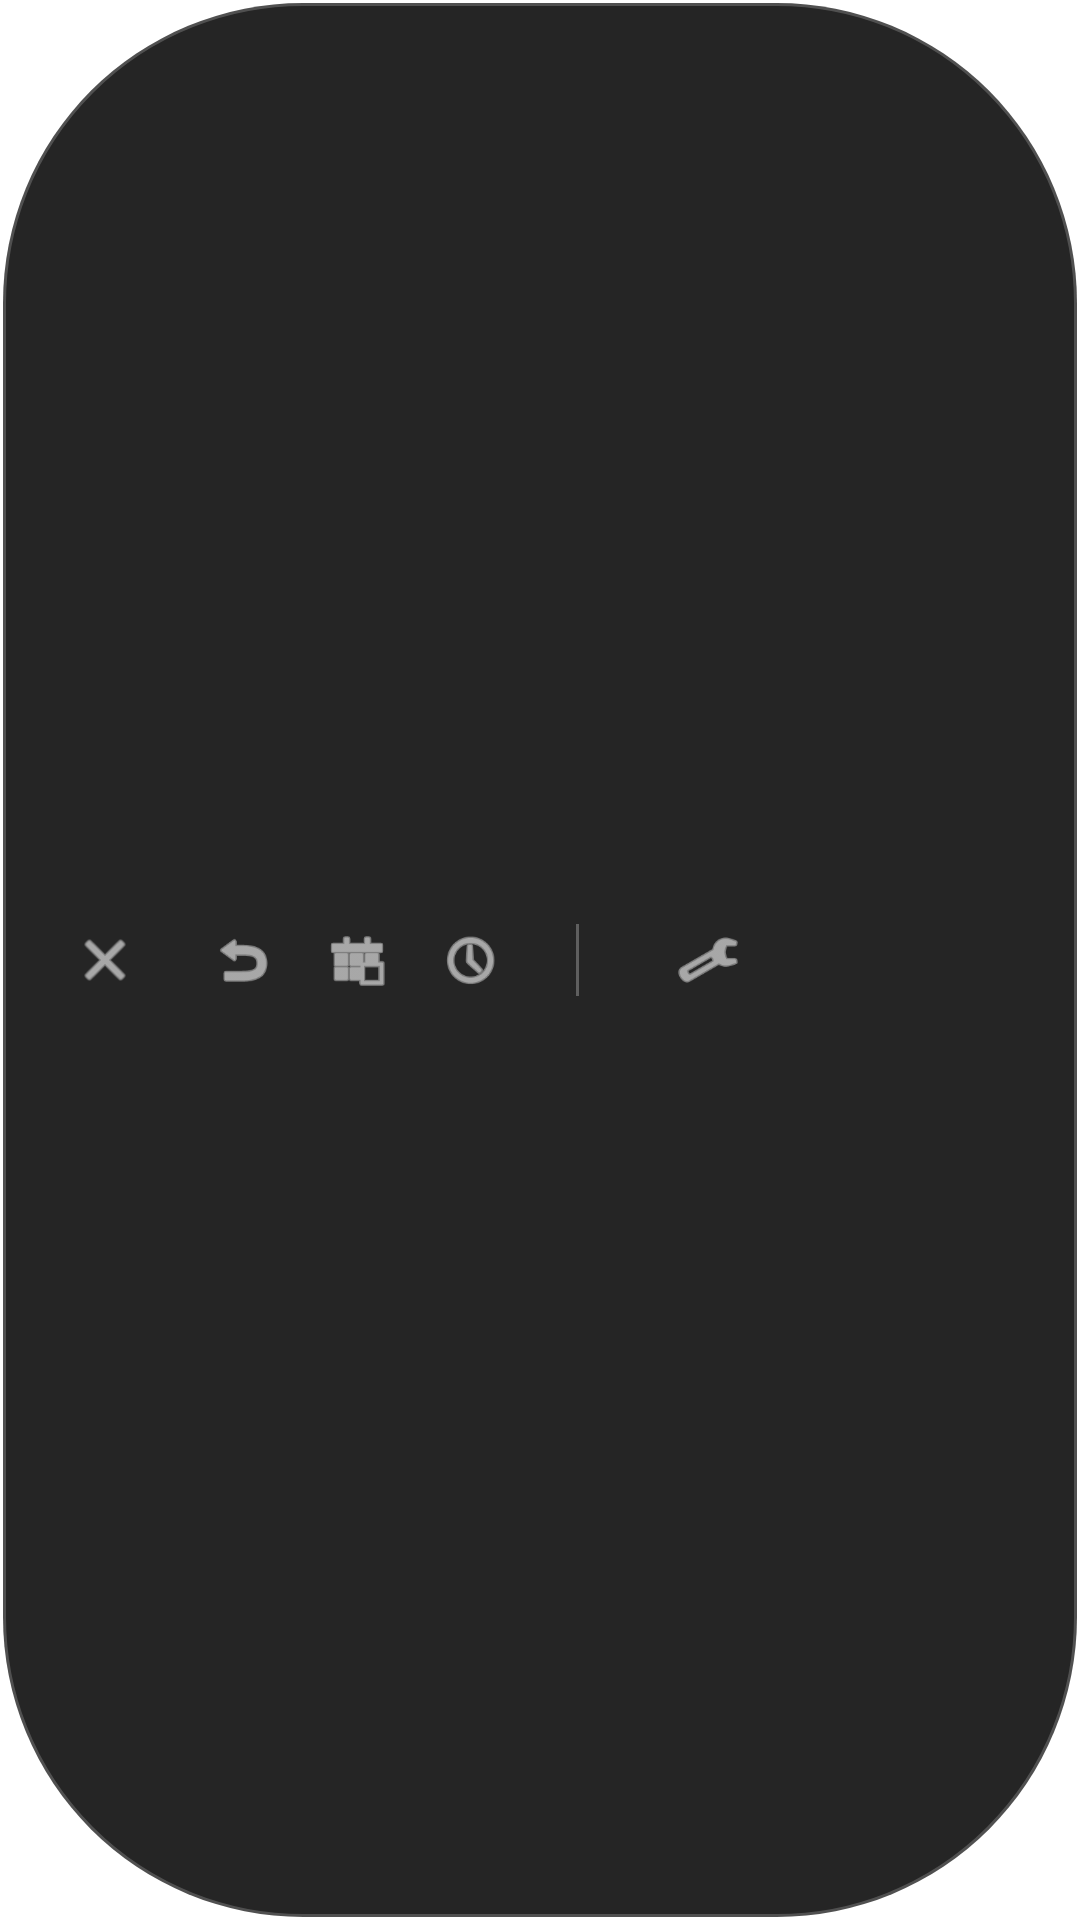

Screen size 1080 × 1920. Icon name, then its box in pixels as [x1=x1, y1=y1, x2=x2, y2=y2]:
close clear cancel: [x1=84, y1=939, x2=126, y2=981]
preferences: [x1=678, y1=937, x2=738, y2=983]
recent history: [x1=447, y1=936, x2=495, y2=984]
revert: [x1=220, y1=939, x2=268, y2=982]
today: [x1=331, y1=936, x2=385, y2=986]
